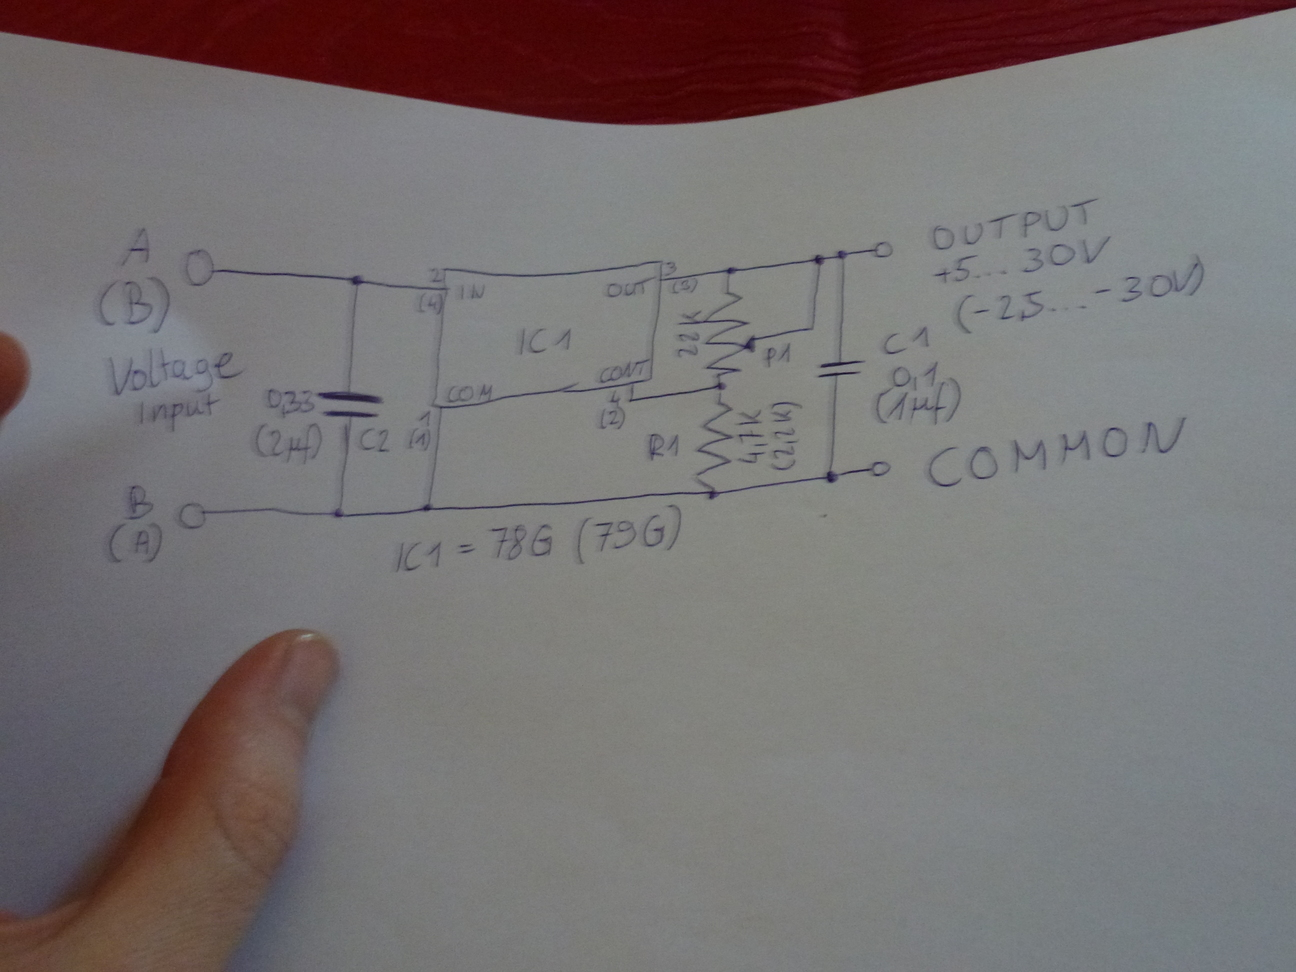capacitor.unpolarized: (316, 390, 387, 421), (812, 357, 865, 379)
integrated_circuit: (430, 259, 665, 408)
junction: (701, 486, 721, 502), (823, 466, 839, 485), (348, 273, 365, 289), (810, 251, 827, 268), (832, 247, 848, 262), (712, 380, 731, 393), (329, 507, 346, 521), (420, 499, 435, 514), (722, 264, 737, 278), (625, 394, 639, 406), (805, 322, 816, 333)
resistor: (690, 398, 736, 486)
resistor.adjustable: (702, 289, 759, 379)
terminal: (182, 247, 218, 289), (175, 498, 211, 530), (868, 237, 897, 261), (866, 458, 893, 481)
text: (955, 250, 1207, 337), (393, 501, 685, 574), (927, 414, 1189, 490), (930, 194, 1101, 253), (930, 233, 1114, 286), (107, 344, 245, 397), (96, 275, 172, 335), (873, 375, 962, 426), (136, 390, 222, 433), (252, 420, 325, 465), (769, 398, 807, 472), (107, 520, 165, 565), (514, 323, 575, 357), (879, 323, 929, 362), (736, 406, 768, 466), (265, 385, 316, 418), (891, 360, 941, 392), (119, 226, 153, 268), (676, 309, 703, 360), (596, 357, 648, 383), (606, 274, 656, 300), (643, 430, 683, 463), (124, 482, 156, 520), (443, 381, 496, 401), (358, 425, 394, 454), (764, 341, 794, 371), (597, 405, 627, 433), (417, 291, 444, 317), (408, 426, 433, 453), (671, 274, 699, 296), (458, 282, 485, 301), (608, 387, 624, 408), (662, 258, 678, 278), (418, 409, 433, 427), (429, 266, 443, 284)
